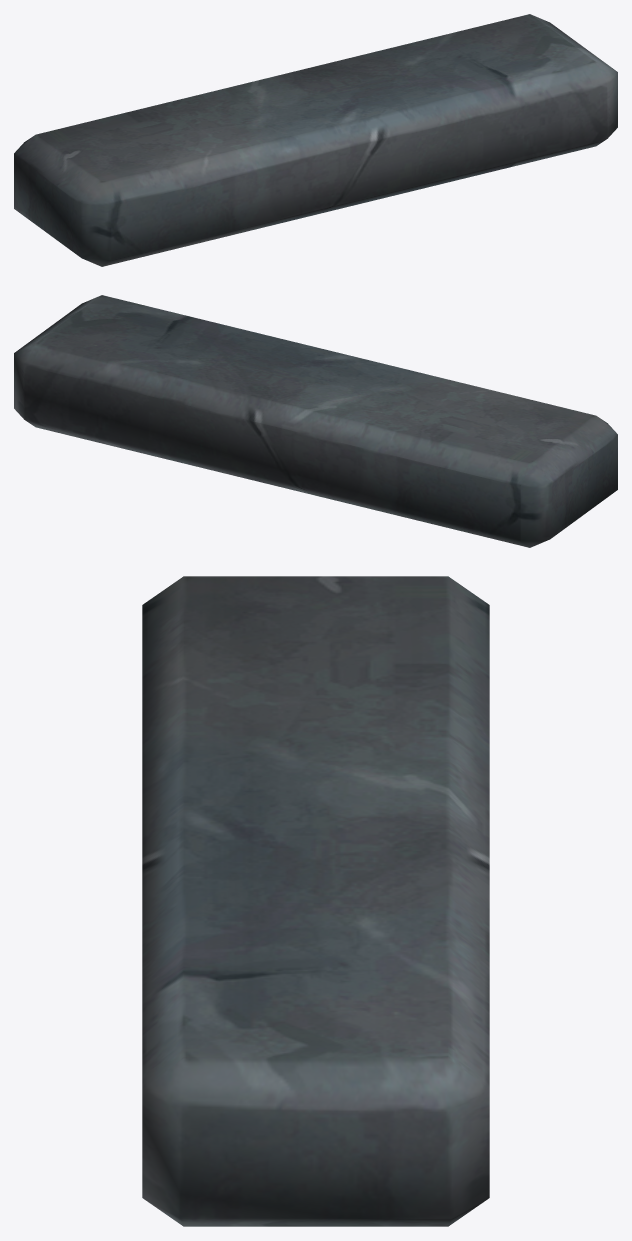
The model's file is DE_House_Mod_Part_53.fbx.
The picture shows the model from 3 angles, top to bottom: view 1: azimuth 30°, elevation 25°; view 2: azimuth 150°, elevation 25°; view 3: azimuth 270°, elevation 25°; orthographic projection. The views are drawn at different scales.
Parts seen in each view (by area): view 1: DE_House_Mod_Part_53; view 2: DE_House_Mod_Part_53; view 3: DE_House_Mod_Part_53.
Part boxes in pixels (x1,y1,x2,y2): DE_House_Mod_Part_53: (14, 14, 617, 266); DE_House_Mod_Part_53: (14, 295, 617, 547); DE_House_Mod_Part_53: (142, 576, 489, 1226).
Size of the model in its own units: 2.23 by 0.3333 by 0.6263.
